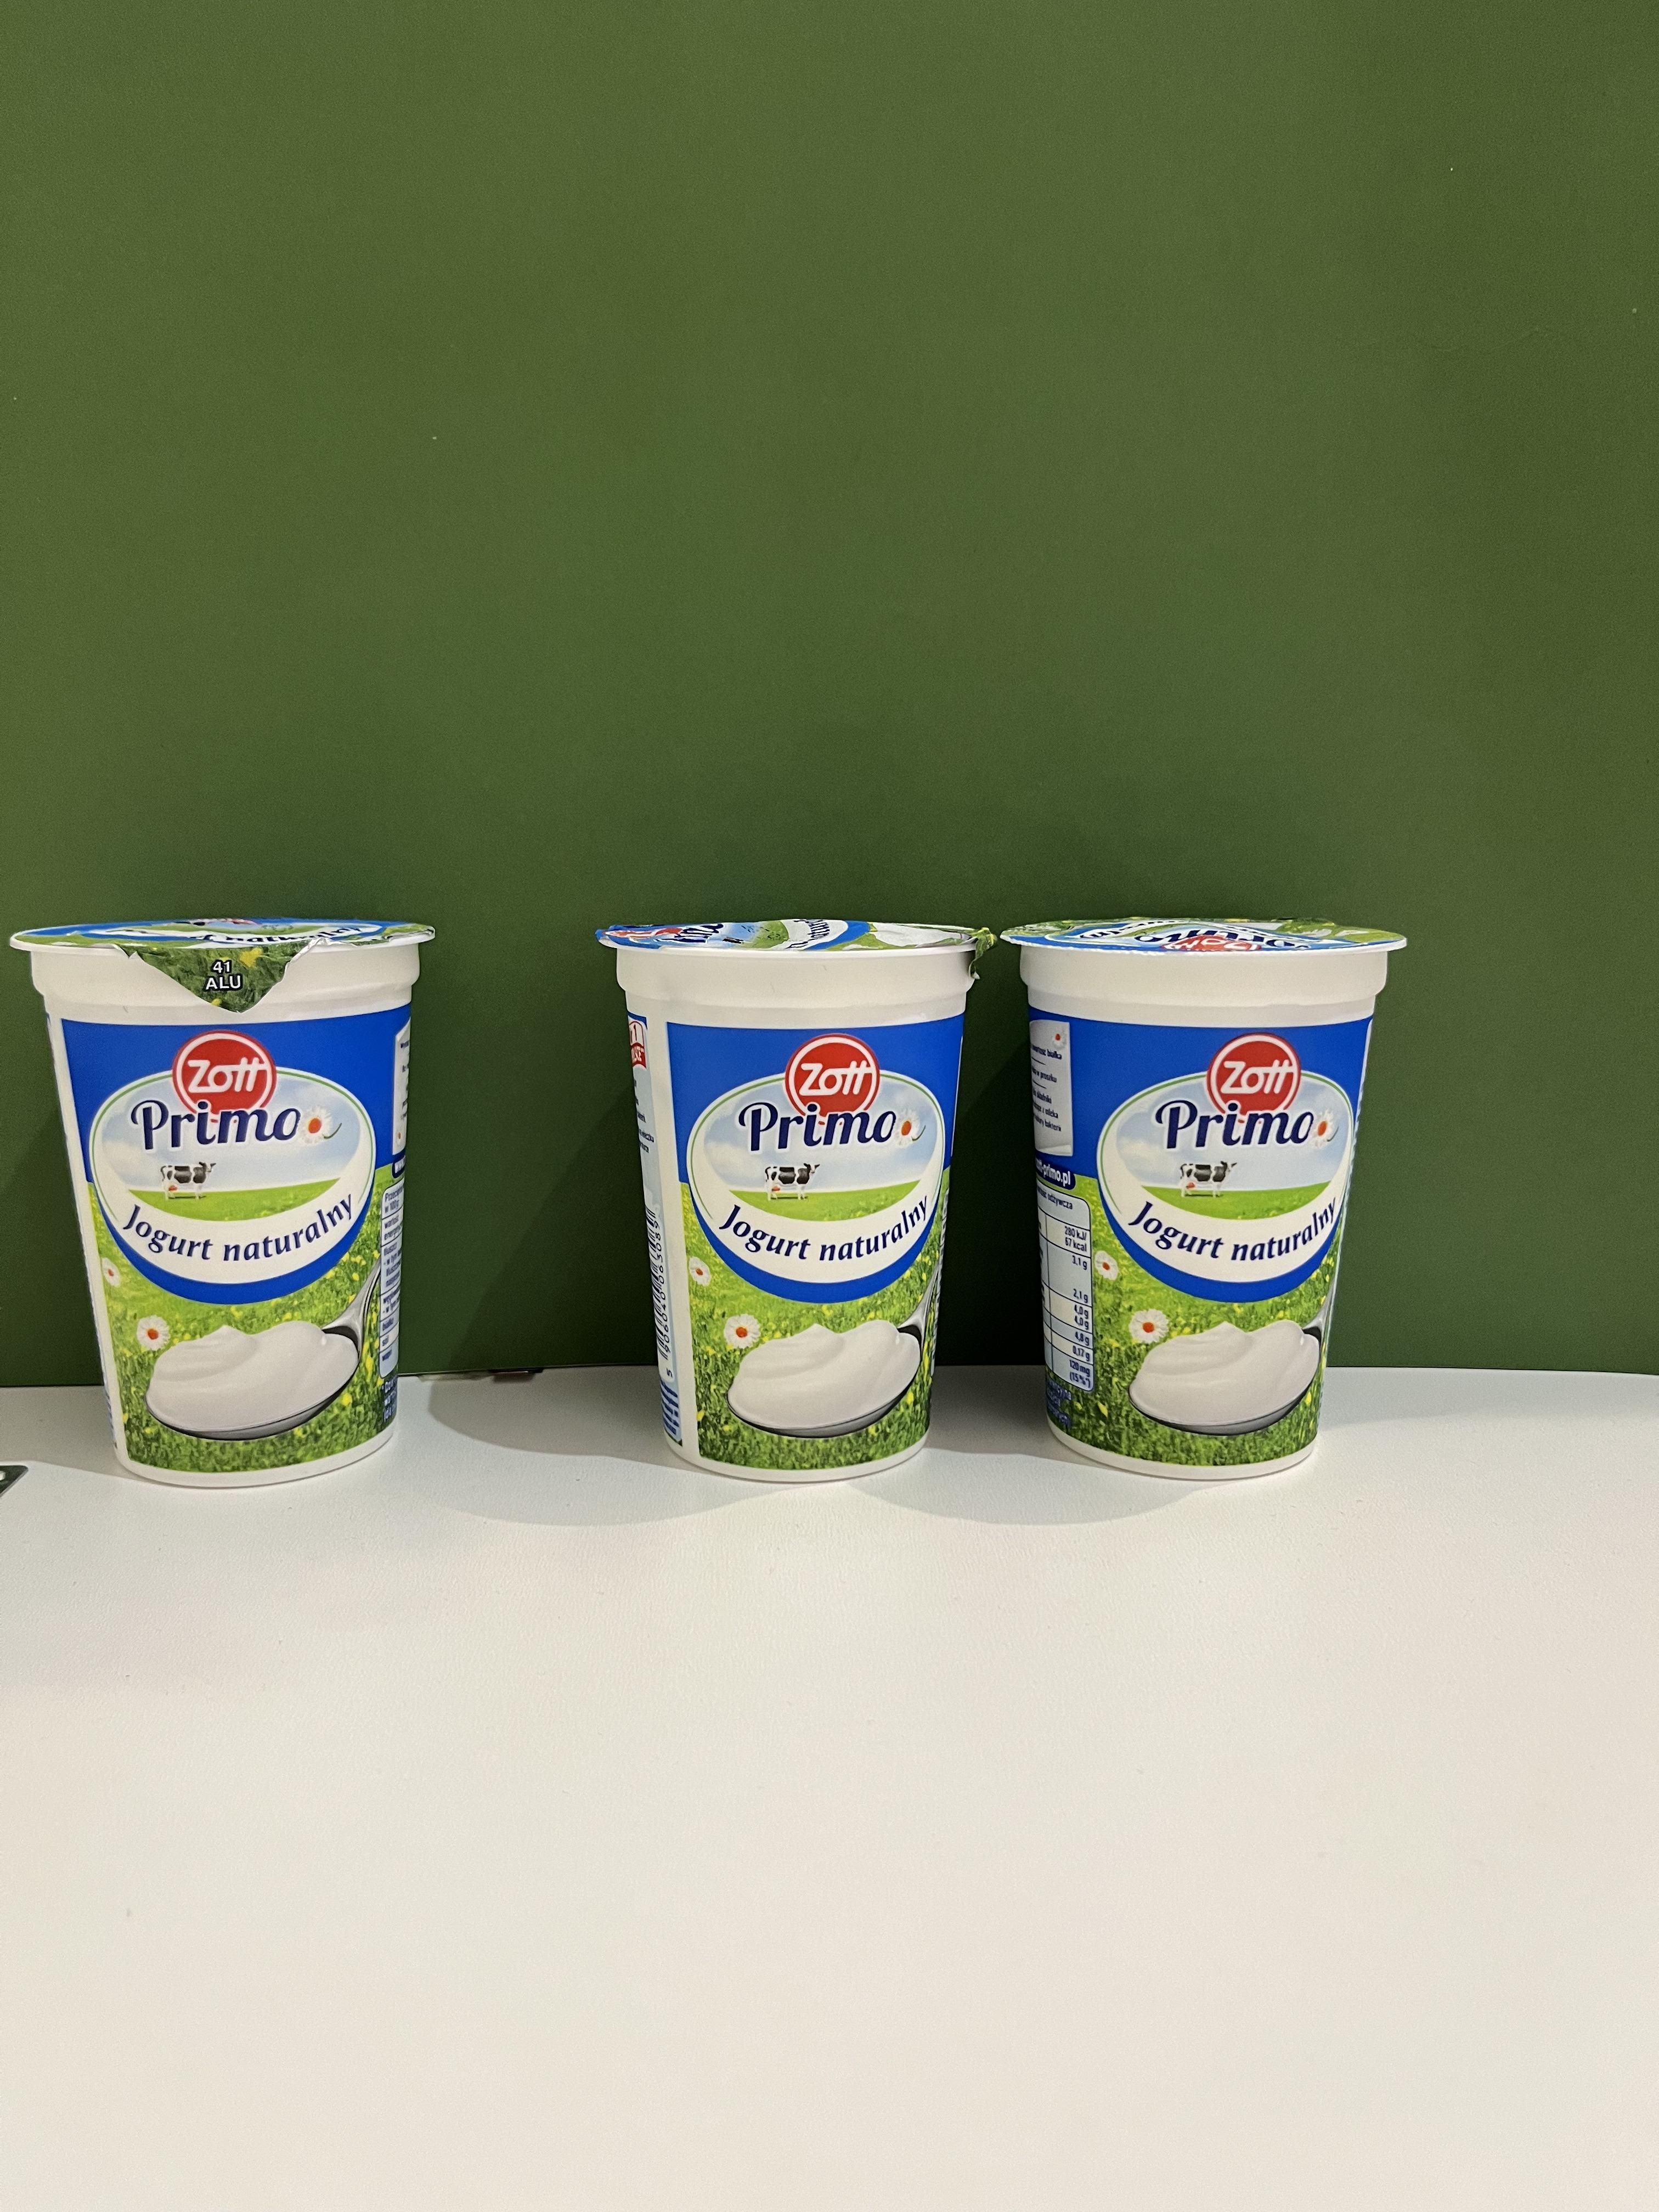Yogurt: (56, 932, 411, 1486), (629, 920, 965, 1474), (1023, 918, 1345, 1470)
